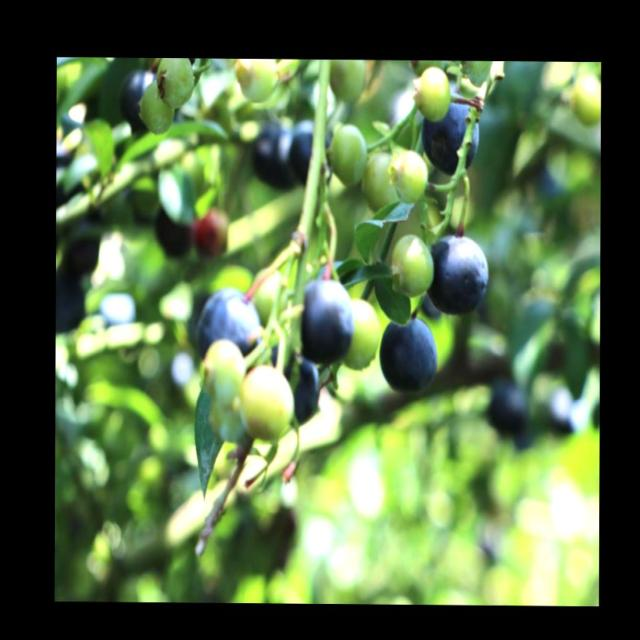blueberry: (426, 232, 488, 318), (196, 288, 260, 364), (418, 97, 484, 170), (298, 278, 354, 362), (379, 313, 438, 392), (264, 352, 320, 420)
blueberry-unripe: (242, 368, 290, 434), (340, 300, 381, 370), (198, 337, 242, 397), (392, 229, 430, 292), (155, 57, 195, 109), (138, 80, 173, 134), (412, 68, 449, 119), (392, 148, 426, 202), (330, 127, 365, 179), (365, 150, 394, 206)
